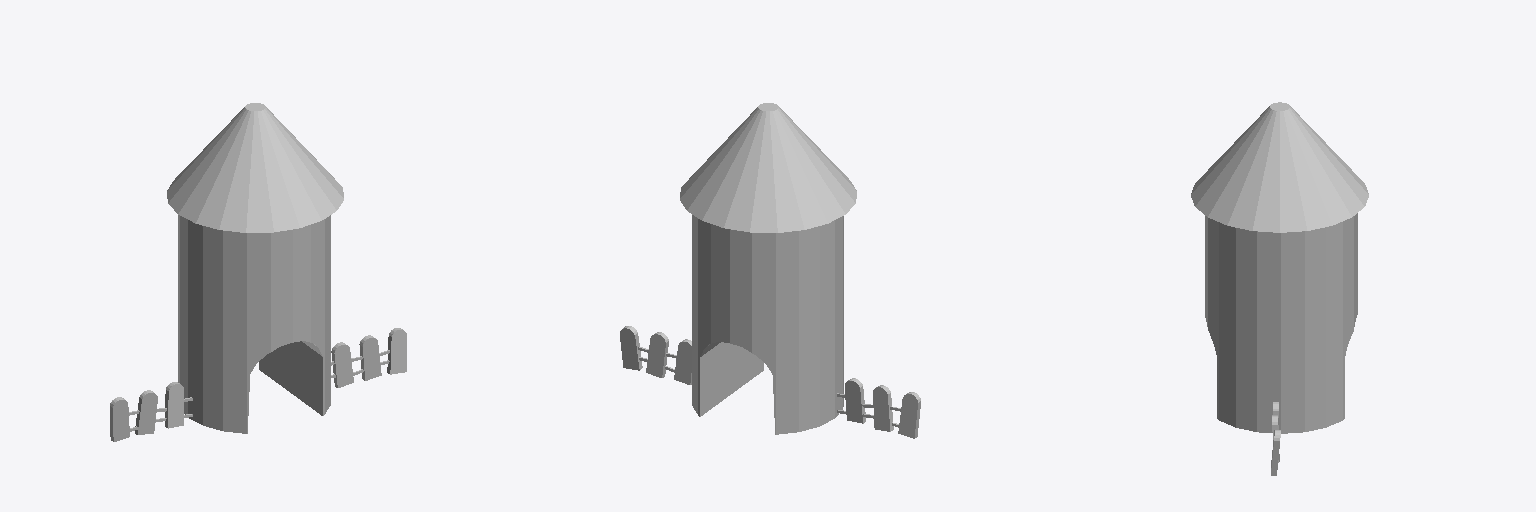
File: windMillBase.obj
3 renders of one model, left to right at view 1: azimuth 30°, elevation 25°; view 2: azimuth 150°, elevation 25°; view 3: azimuth 270°, elevation 25°, orthographic.
Parts seen in each view (by area): view 1: windMillBase; view 2: windMillBase; view 3: windMillBase.
Boxes of the visible parts, x1=… form: windMillBase: x1=110, y1=103, x2=406, y2=441; windMillBase: x1=620, y1=103, x2=920, y2=438; windMillBase: x1=1191, y1=102, x2=1368, y2=475.
Bounding box in the file's own units: 2.75 × 2.64 × 1.43.